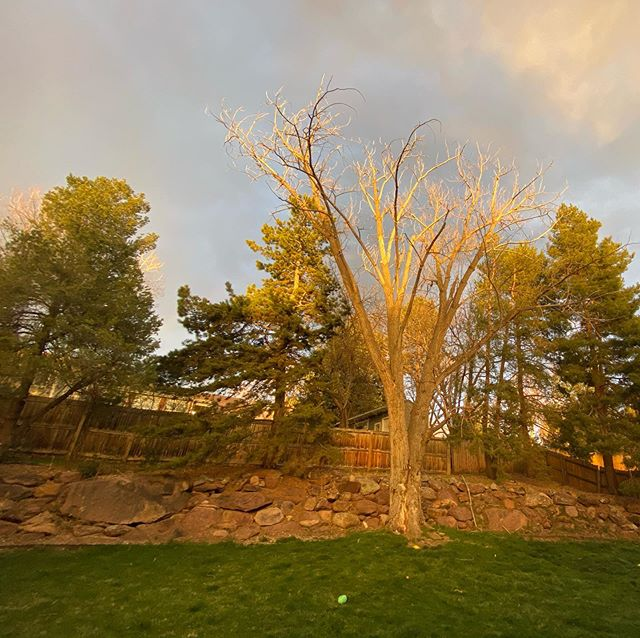grass: (12, 530, 640, 638)
rocks: (8, 459, 638, 532)
sky: (26, 1, 640, 259)
tree: (302, 143, 526, 552), (514, 203, 640, 562), (1, 178, 164, 435), (192, 177, 344, 435)
